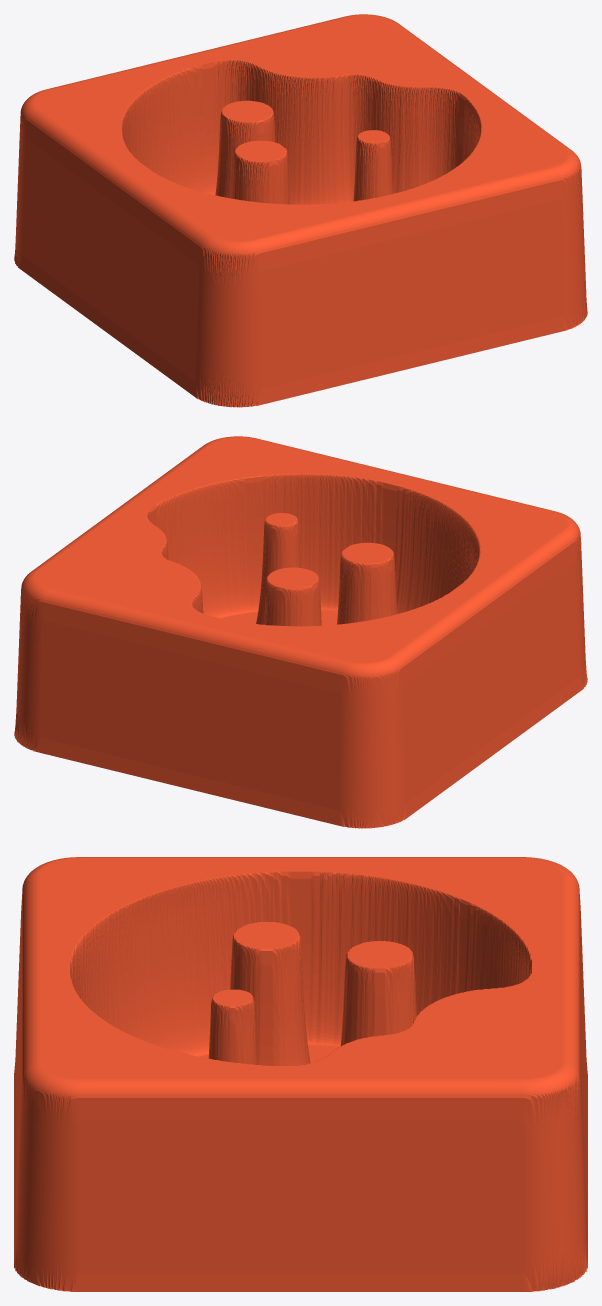
Rendered from mold.glb.
3 views of the same model, one above another, from view 1: azimuth 30°, elevation 25°; view 2: azimuth 150°, elevation 25°; view 3: azimuth 270°, elevation 25° (orthographic). The views are drawn at different scales.
Parts seen in each view (by area): view 1: geometry_0; view 2: geometry_0; view 3: geometry_0.
Part boxes in pixels (x1,y1,x2,y2): geometry_0: (14,14,587,407); geometry_0: (14,436,587,828); geometry_0: (14,857,587,1291).
Bounding box in the file's own units: 0.0796 × 0.031 × 0.0798.
